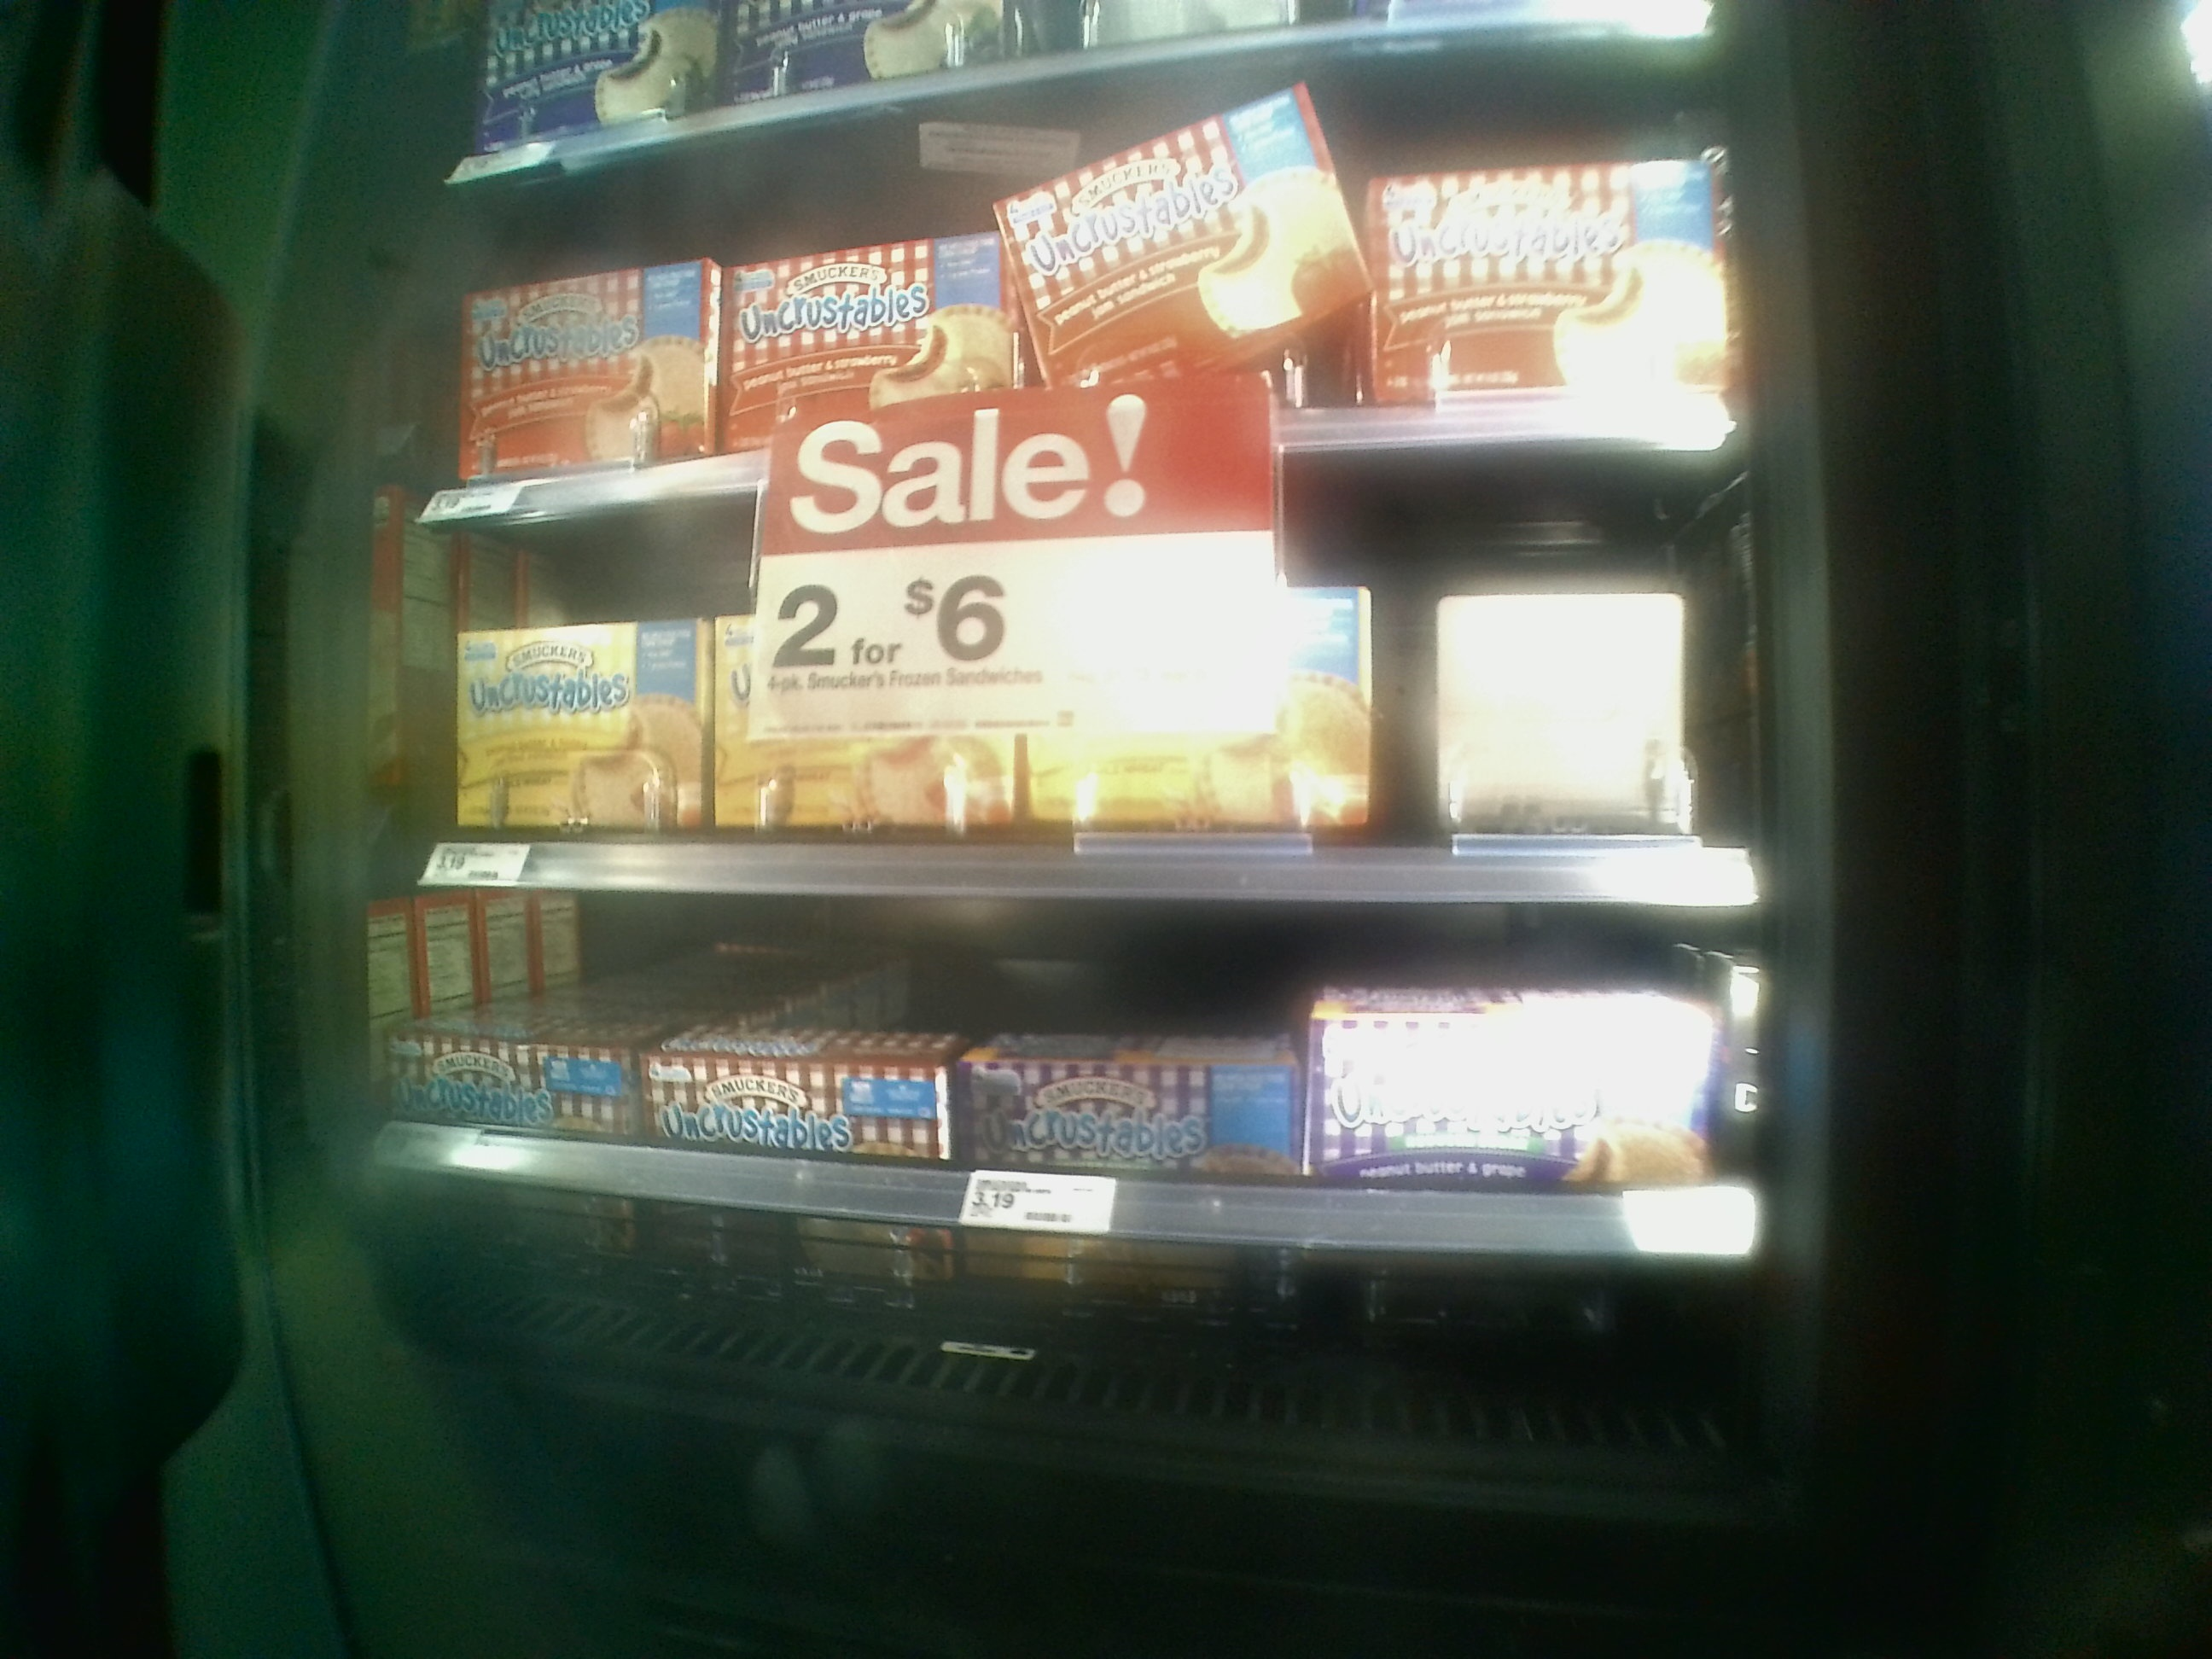shelf: (404, 882, 1780, 1412), (415, 523, 1759, 918), (432, 186, 1737, 497)
